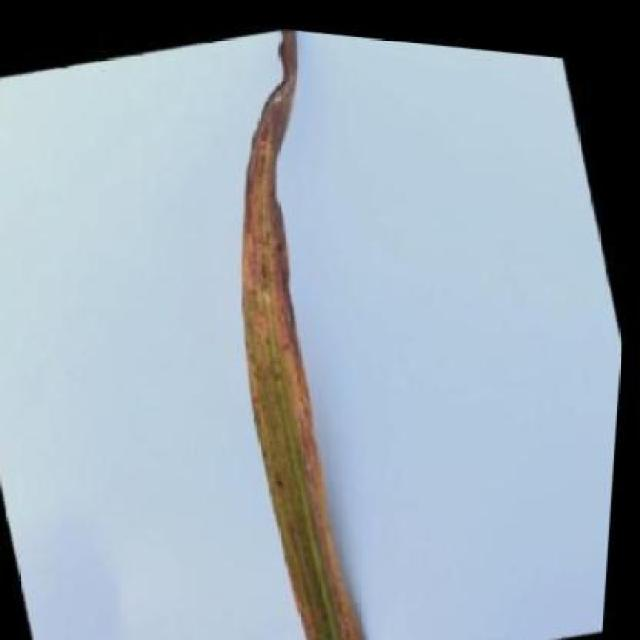Rice False Smut: (151, 15, 463, 640)
